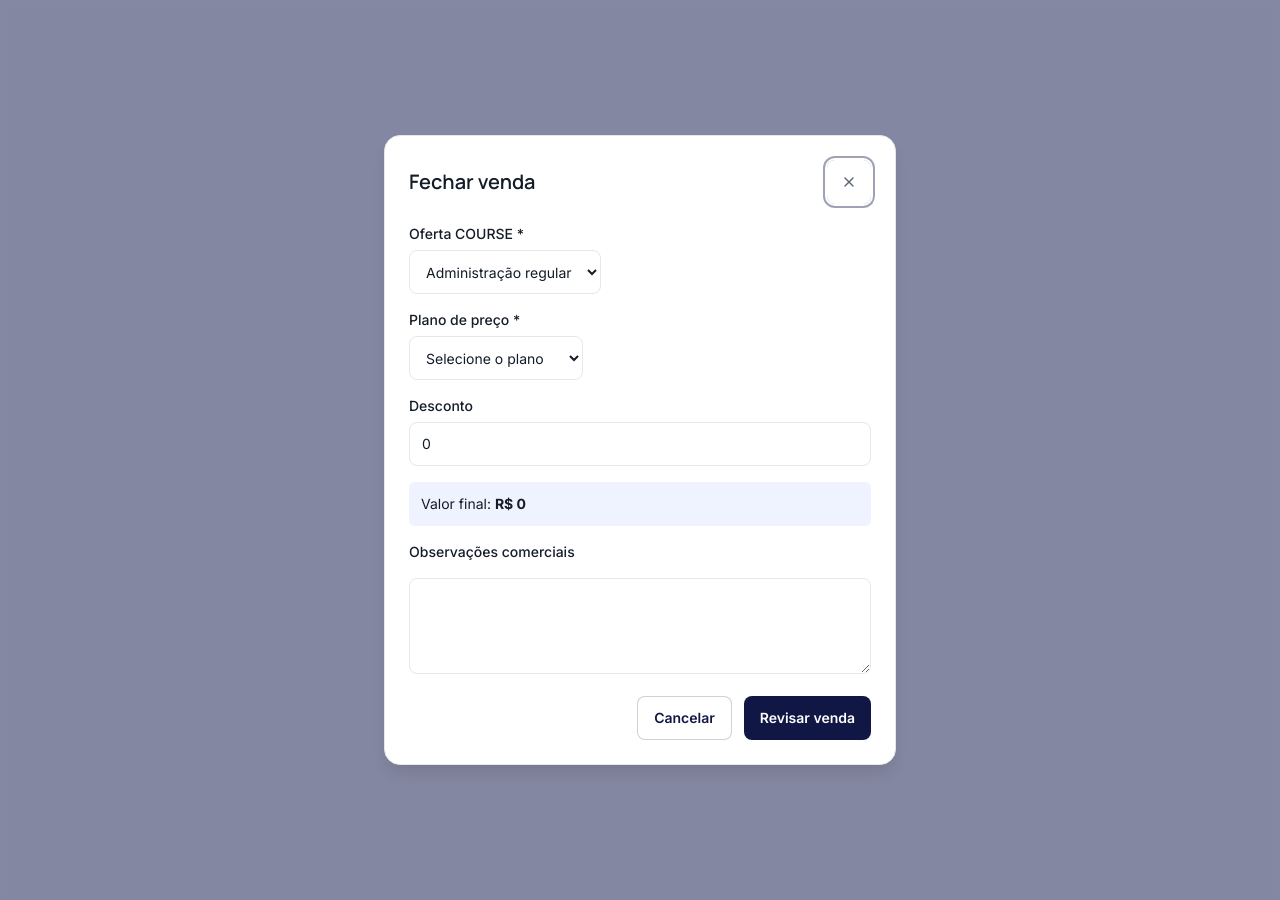
Test case: CloseSaleModal — commercial COURSE flow › shows customer and seller in the review
The width and height of the screenshot is (1280, 900).
Select "Administração regular" in the dropdown below "Oferta COURSE *" at coordinates (505, 272), box [409,250,601,294]
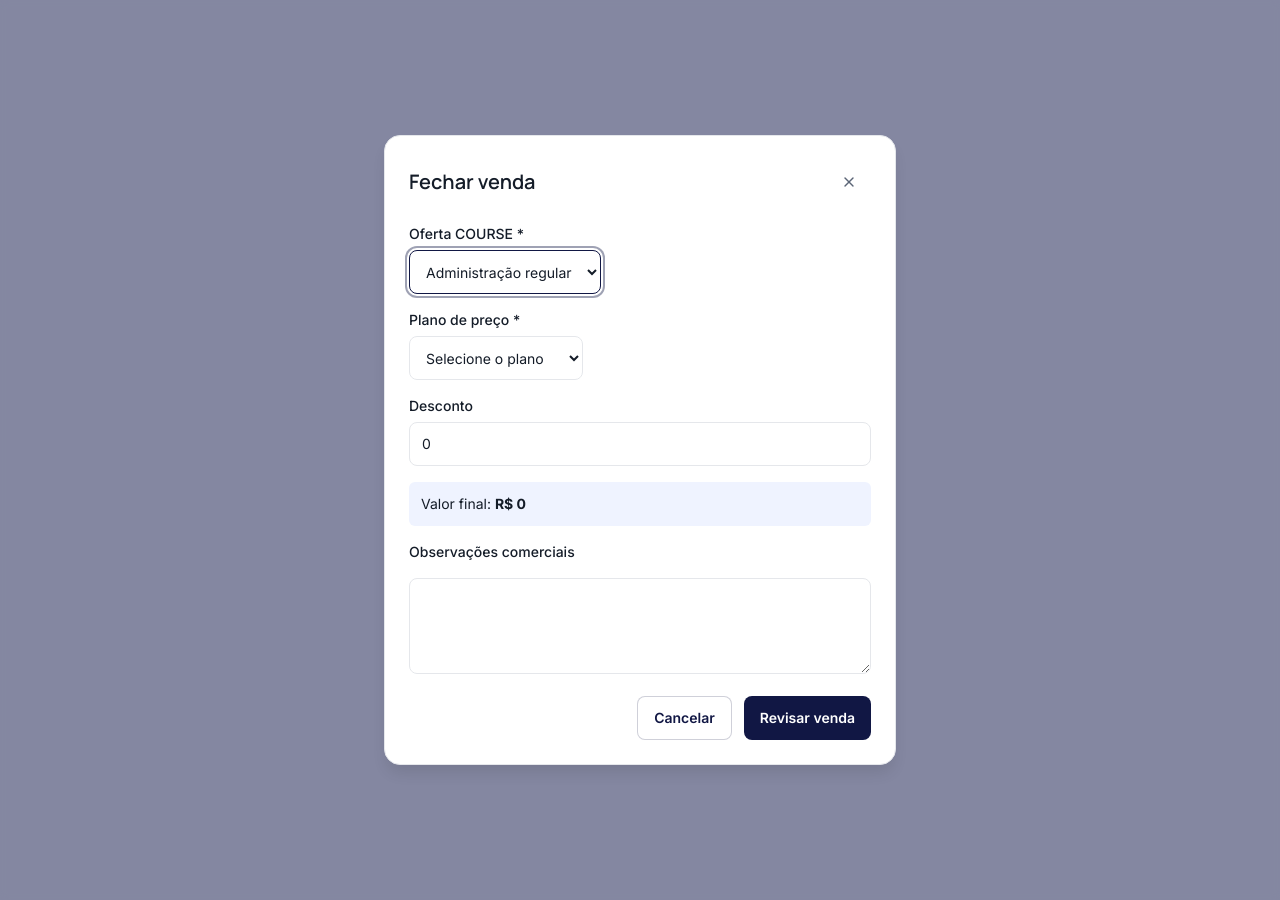
Select "À vista — R$ 2.000" in the dropdown below "Plano de preço *" at coordinates (496, 358), box [409,336,583,380]
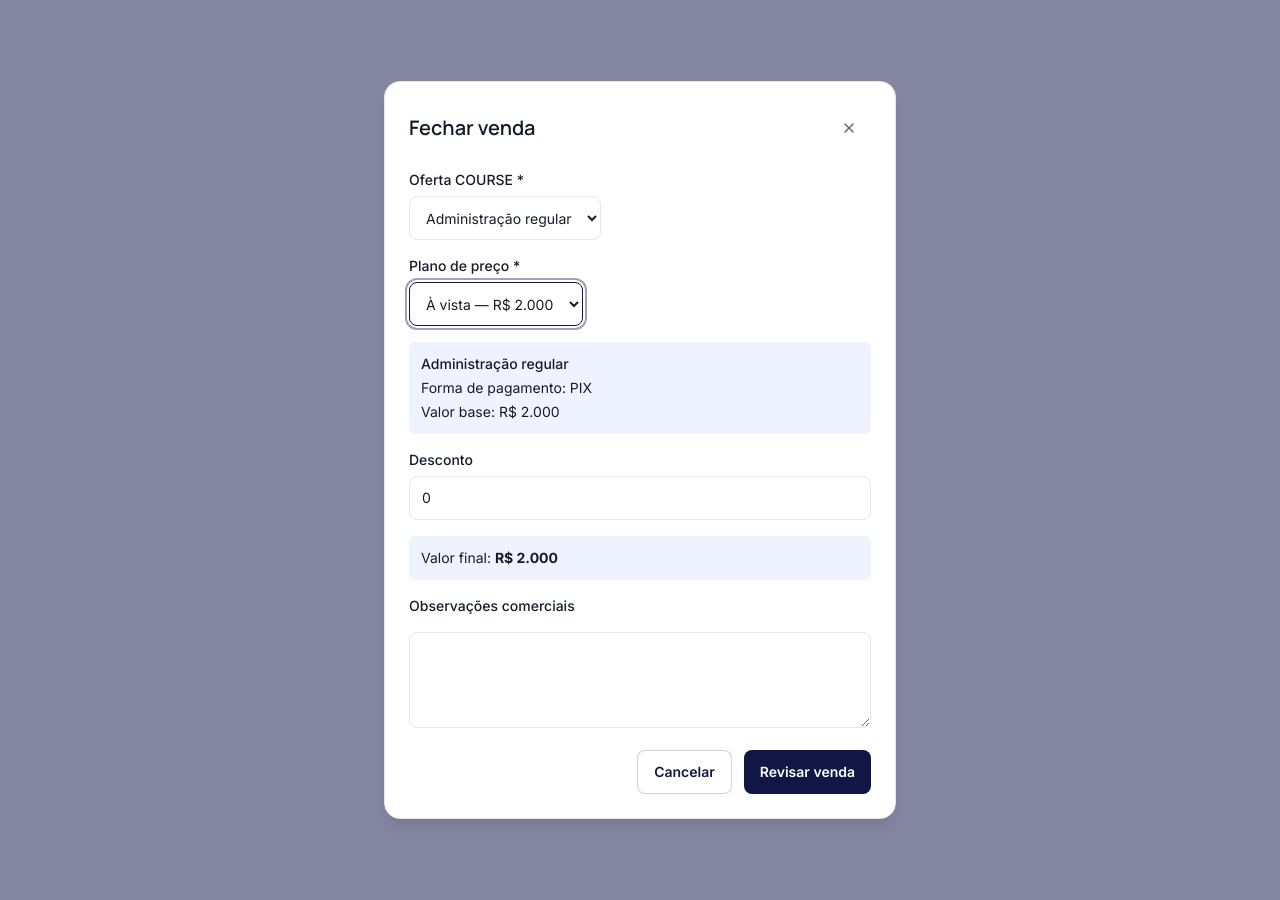
Click the button "Revisar venda" at coordinates (807, 772), box [744,750,871,794]
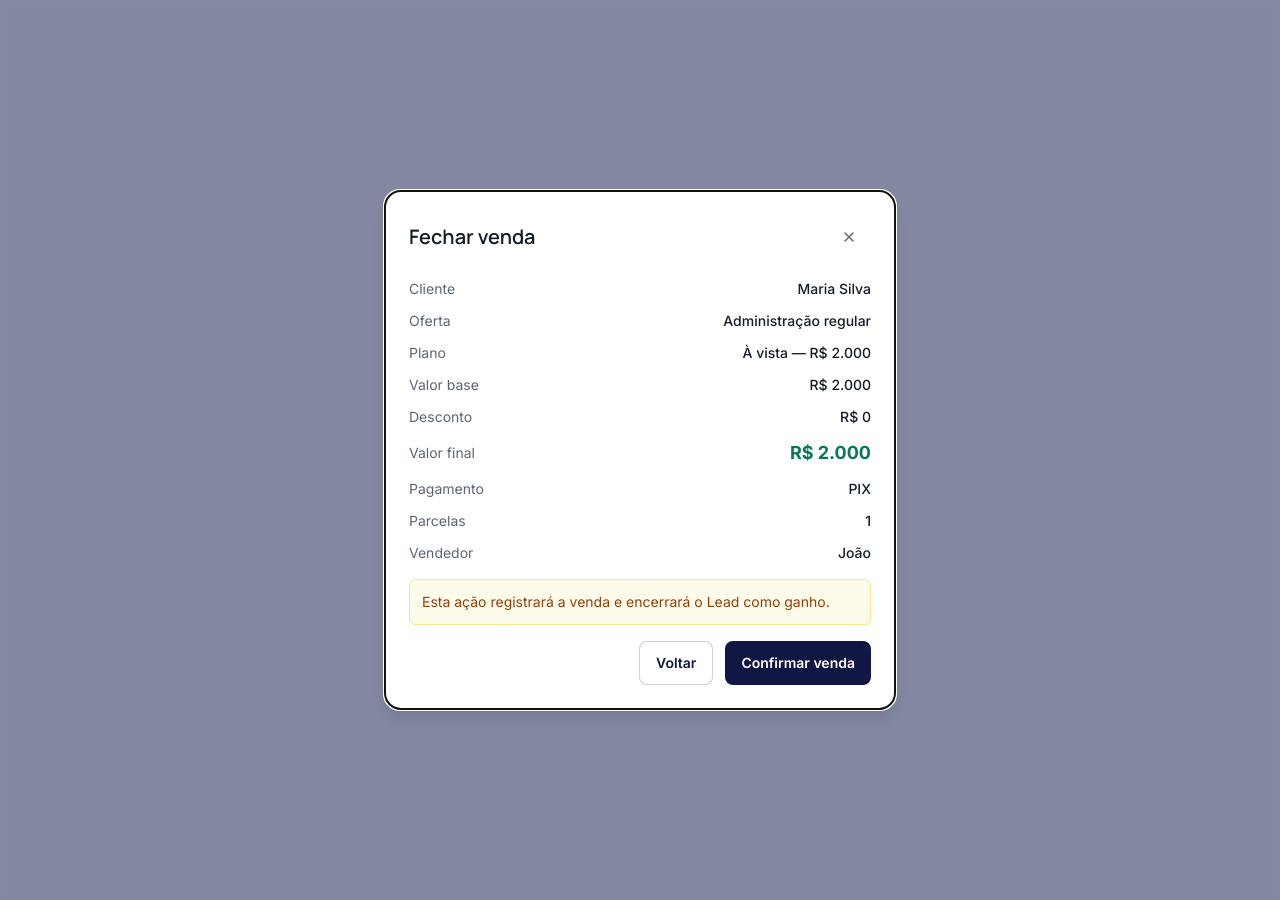
Check: the button "Confirmar venda" is shown, box [725,641,871,685]
Check: the text "Maria Silva" is shown, box [797,279,871,299]
Check: the text "João" is shown, box [838,543,871,563]
